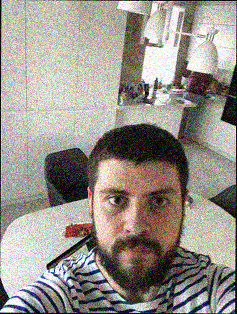without_mask: (95, 177, 183, 293)
